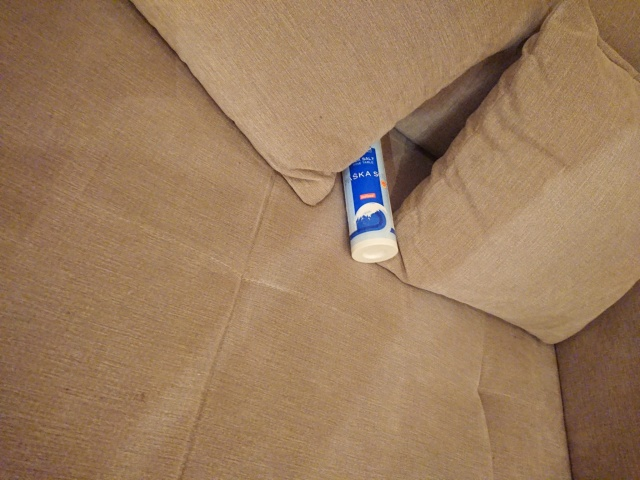Solana Pag Fine Sea Salt 250g: (336, 129, 403, 266)
